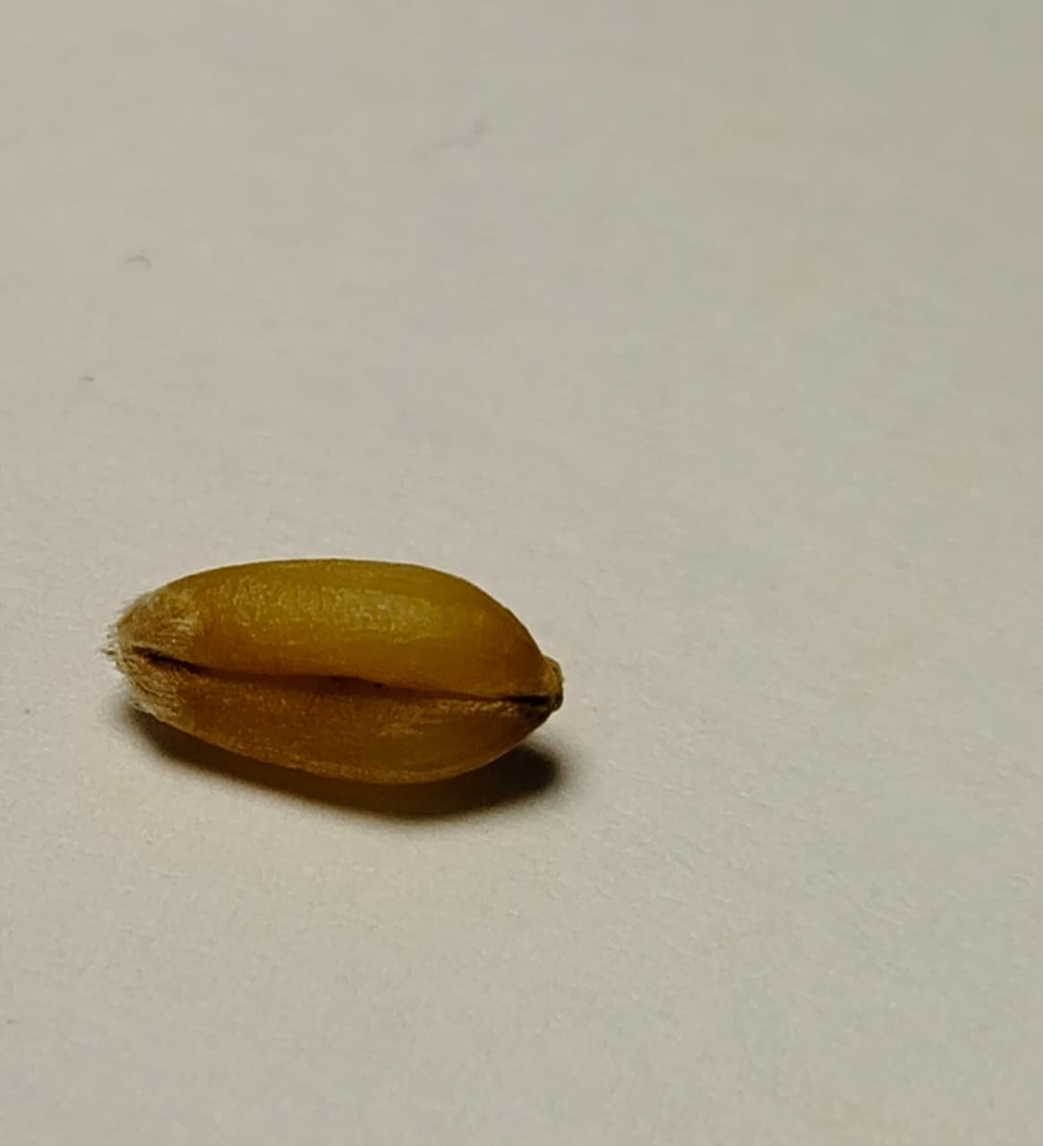healthy: (107, 560, 561, 783)
